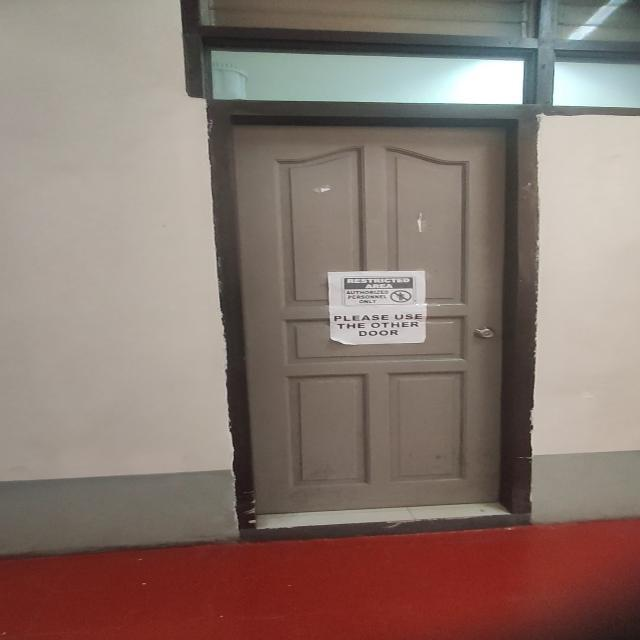door: (209, 104, 538, 542)
